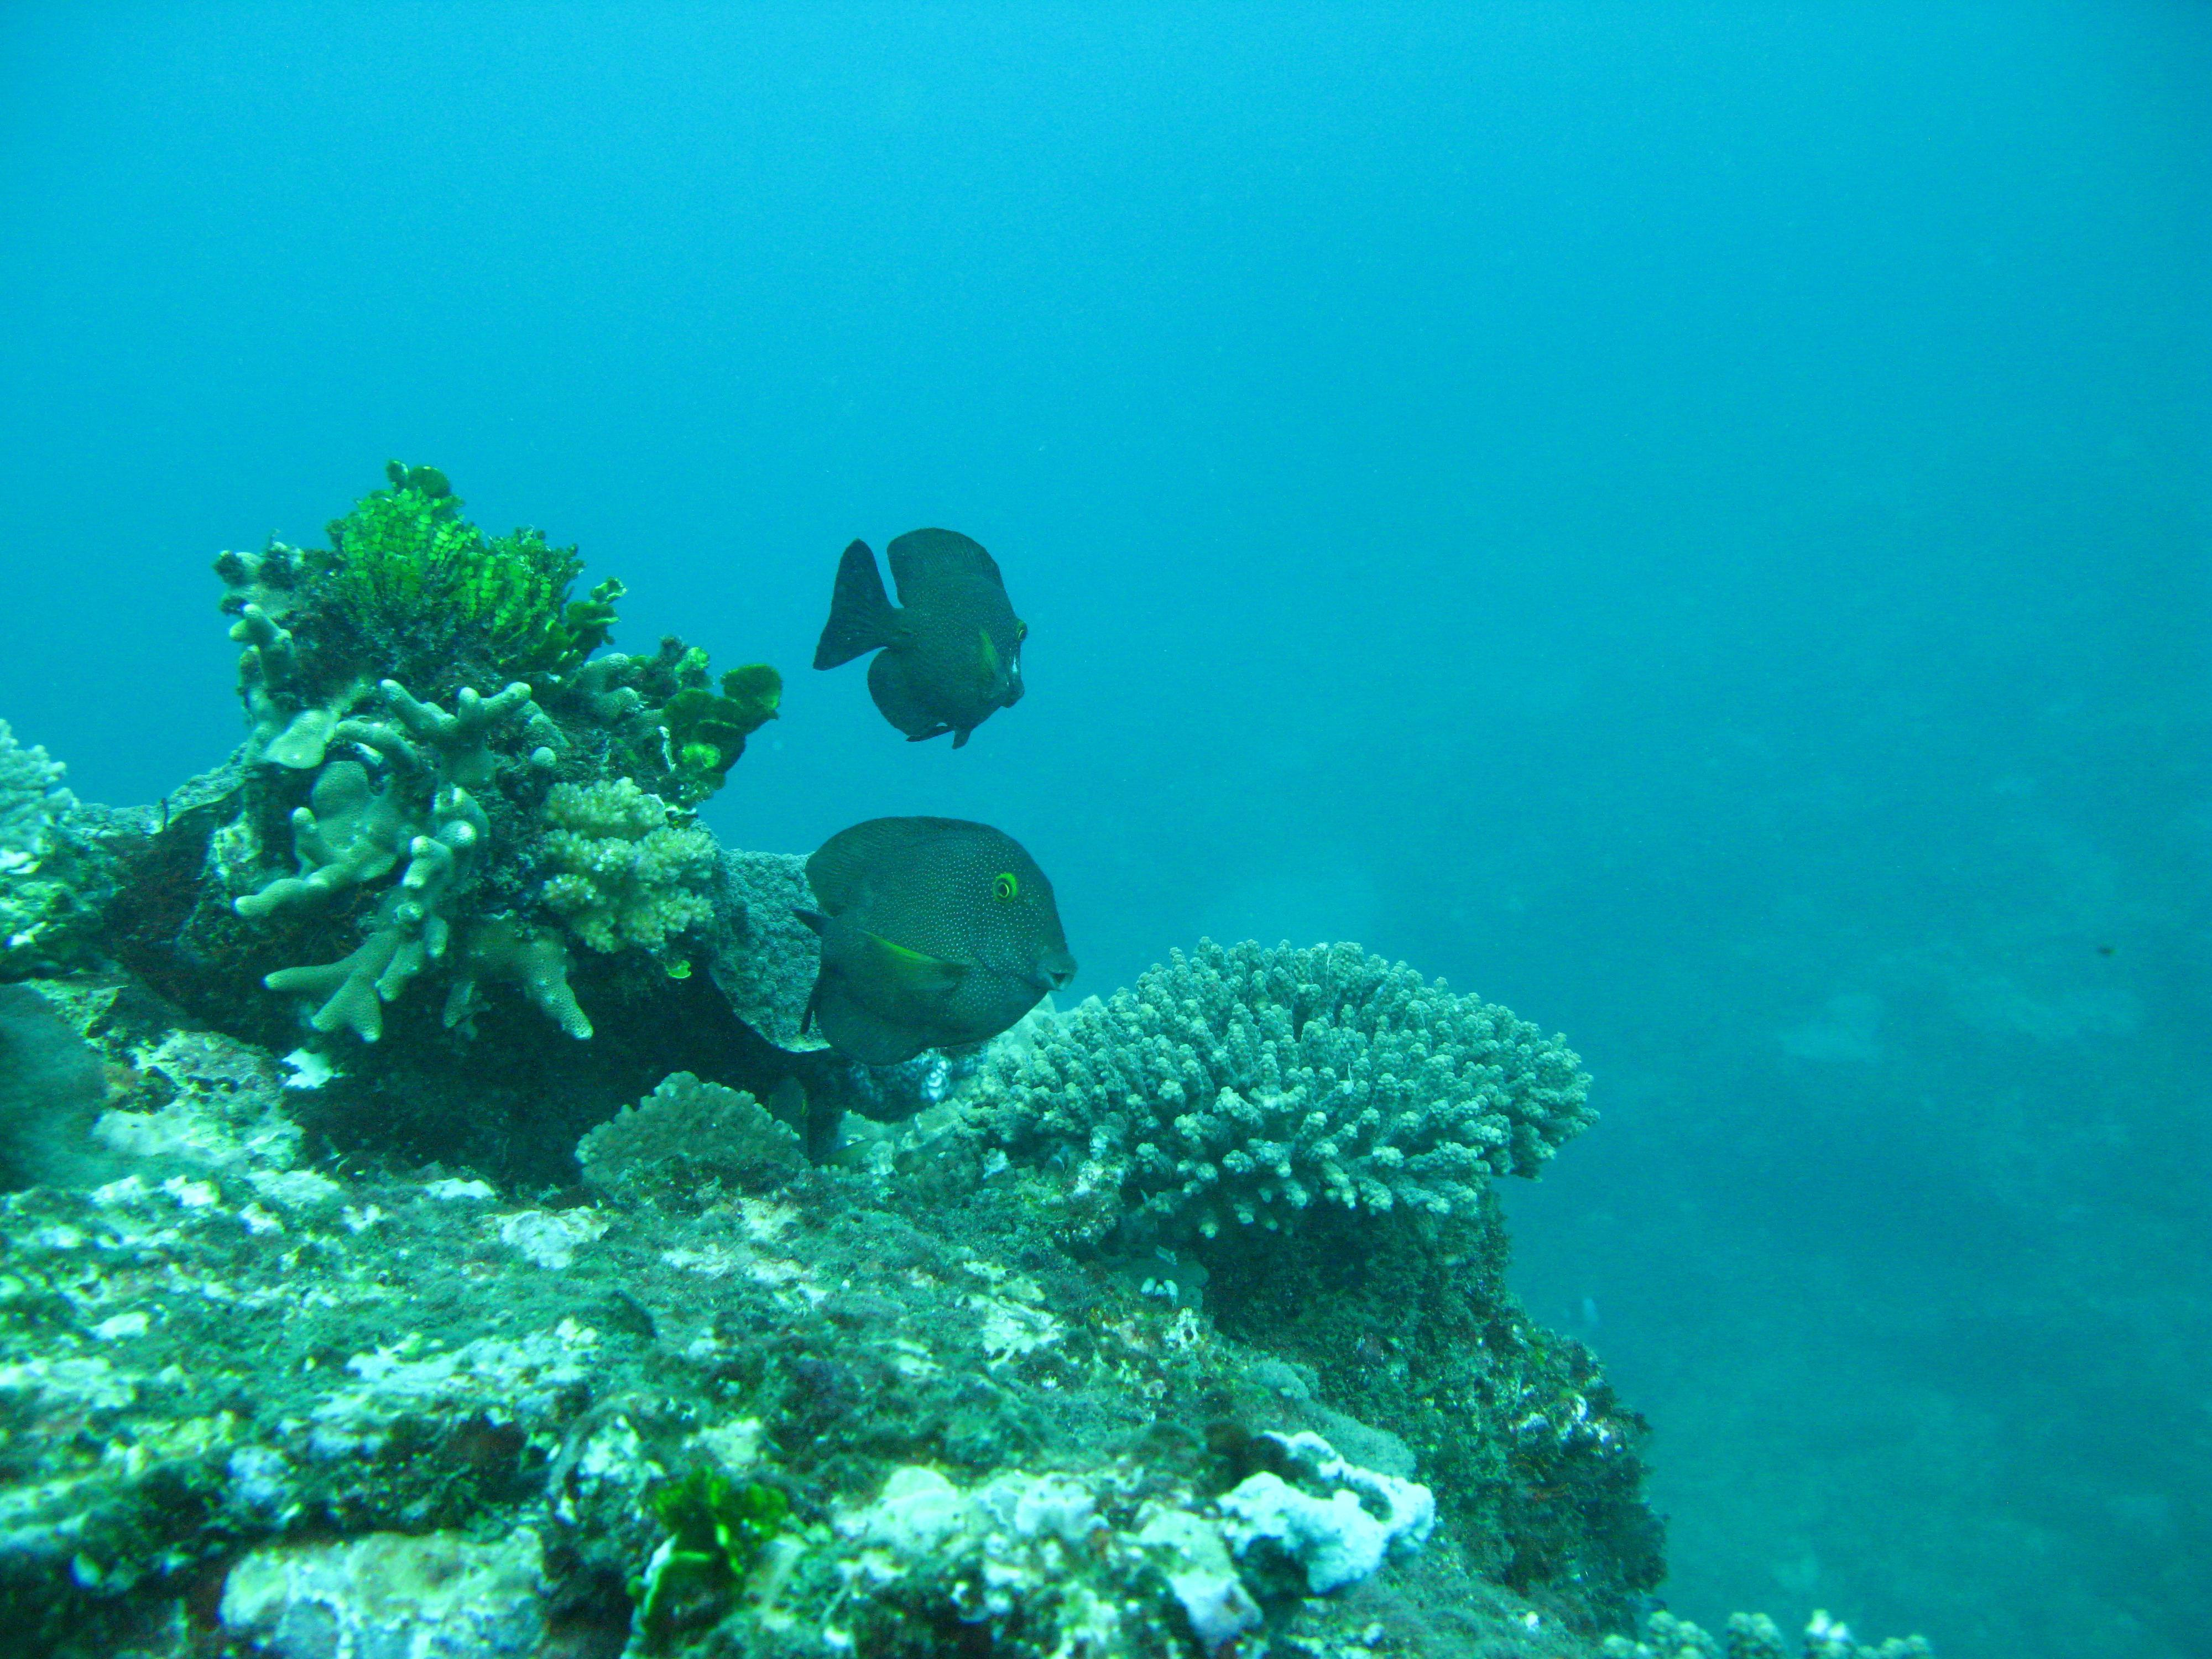Fish: (636, 779, 1163, 1155), (716, 472, 1106, 763)
